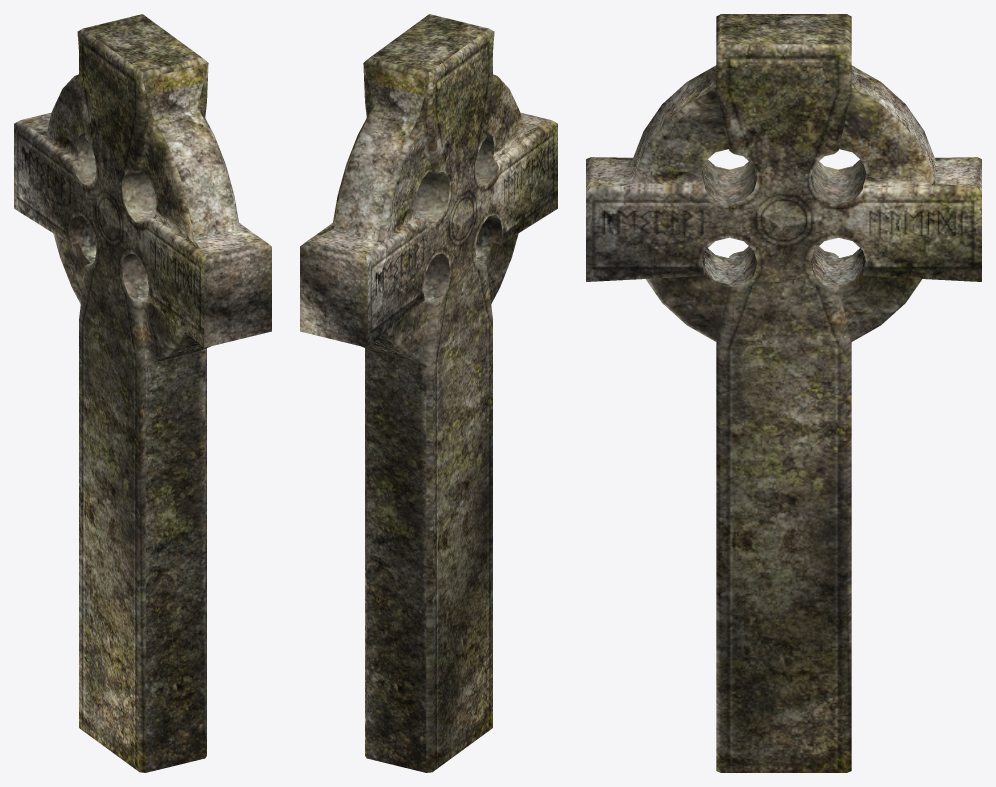
The model's file is Gravestone.dae.
The picture shows the model from 3 angles, left to right: view 1: azimuth 30°, elevation 25°; view 2: azimuth 150°, elevation 25°; view 3: azimuth 270°, elevation 25°; orthographic projection. The views are drawn at different scales.
Visible parts, largest first — view 1: Gravestone; view 2: Gravestone; view 3: Gravestone.
Part boxes in pixels (box(x1,y1,x2,y2)): Gravestone: box(14, 14, 271, 772); Gravestone: box(300, 14, 557, 772); Gravestone: box(586, 14, 981, 772).
Size of the model in its own units: 0.1462 by 1.45 by 0.7144.
Materials: 1 (1 with a texture image).
